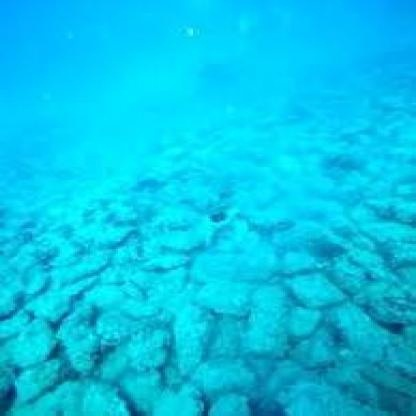tire: (198, 206, 258, 230)
